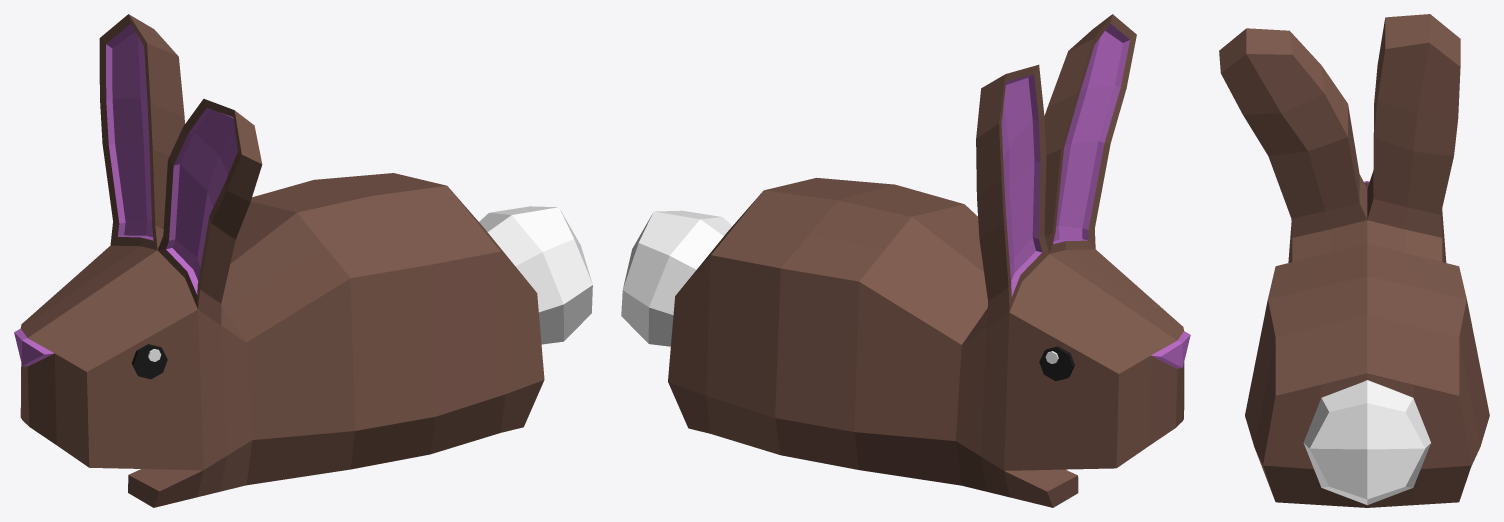
Rendered from rabbit.obj.
The picture shows the model from 3 angles, left to right: view 1: azimuth 30°, elevation 25°; view 2: azimuth 150°, elevation 25°; view 3: azimuth 270°, elevation 25°; orthographic projection. The views are drawn at different scales.
Visible parts, largest first — view 1: Cube.025; view 2: Cube.025; view 3: Cube.025.
Boxes of the visible parts, bbox=[...] form: Cube.025: bbox=[14, 14, 592, 507]; Cube.025: bbox=[621, 14, 1190, 507]; Cube.025: bbox=[1219, 14, 1489, 507].
Size of the model in its own units: 268 by 192 by 130.
